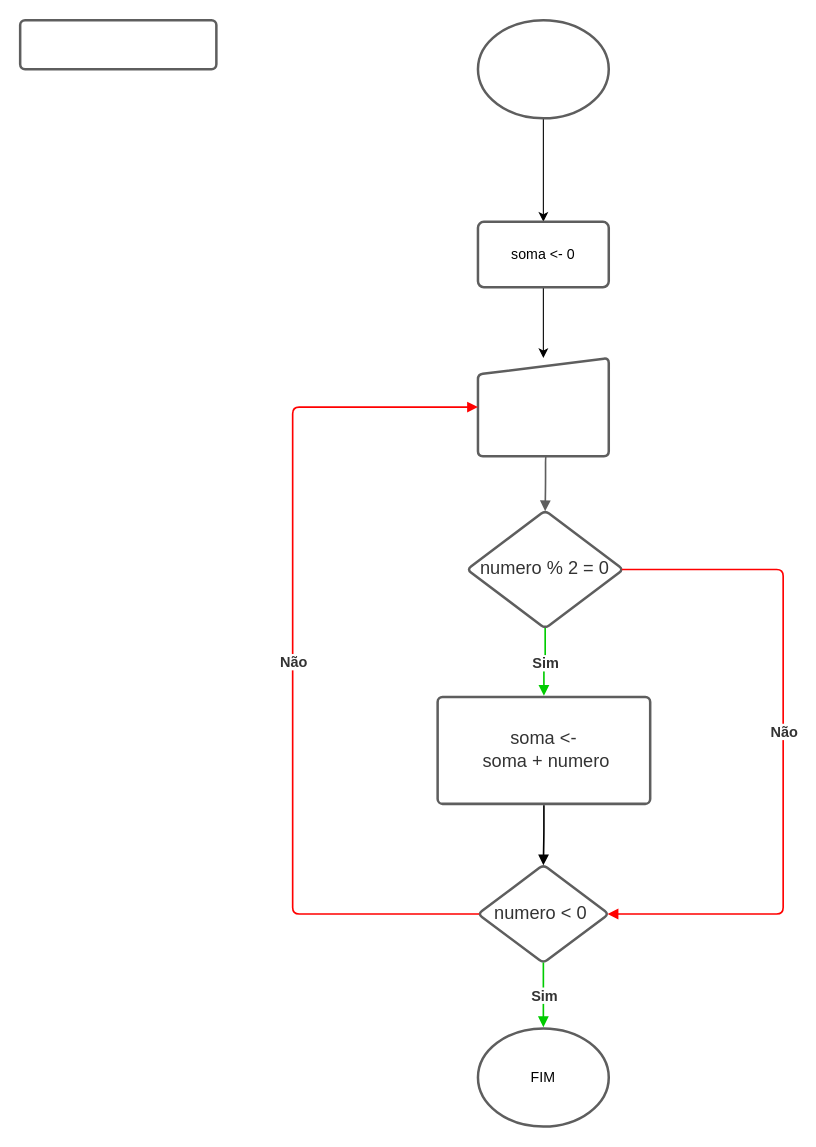
The diagram is 816 pixels wide and 1147 high, and some of its shapes have lost their labels. The shapes that lost their labels are listed below. From the top down, each one's centre as x and y in pixels, then its label:
At (117,44): "QUESTÃO 01 - AdemarROV".
At (543,68): "INICIO".
At (543,406): "numero".
